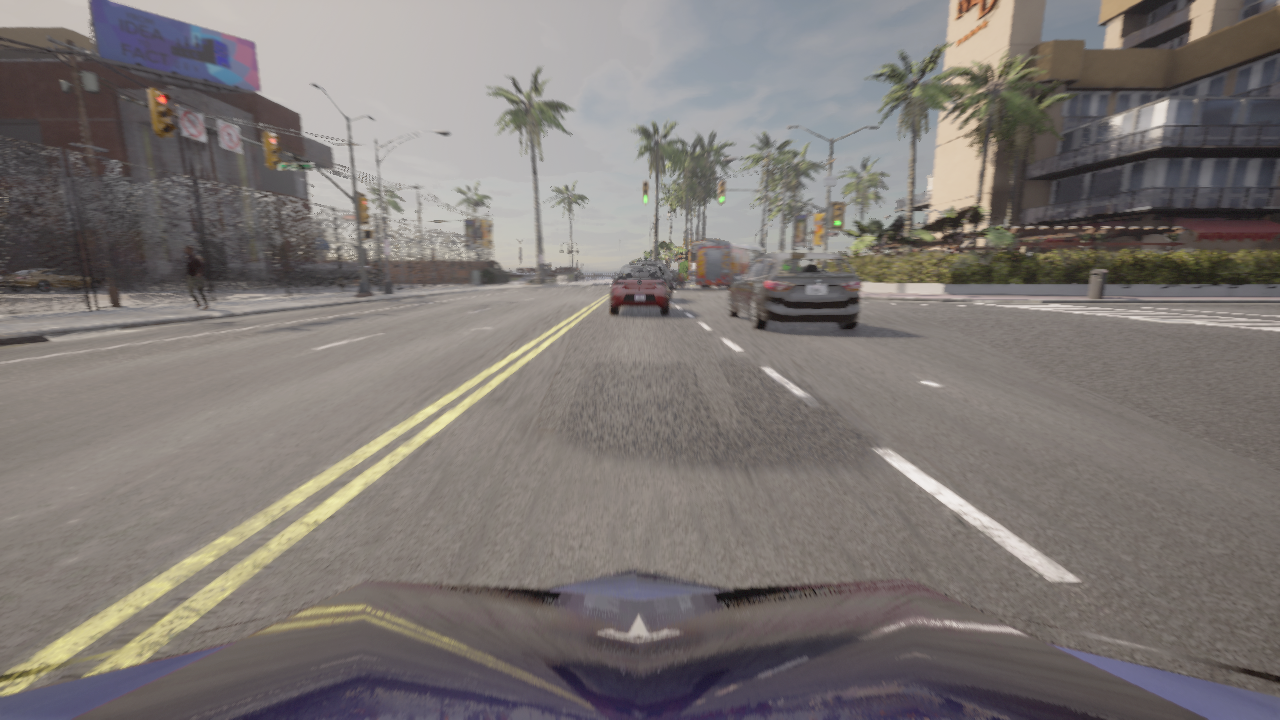cyclist: (0, 569, 1279, 719), (727, 252, 861, 330), (688, 242, 763, 285), (610, 265, 669, 314), (696, 239, 753, 288), (0, 268, 102, 291), (298, 261, 384, 286), (636, 259, 672, 300), (668, 270, 684, 289), (0, 269, 9, 288)
pedestrian: (184, 245, 209, 309)
